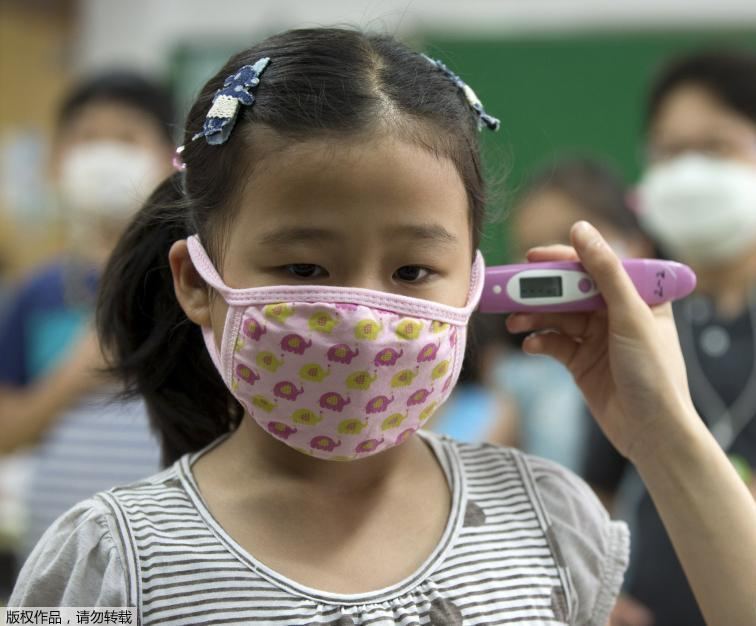OK: (224, 211, 465, 445), (634, 121, 756, 261), (64, 115, 170, 222)
